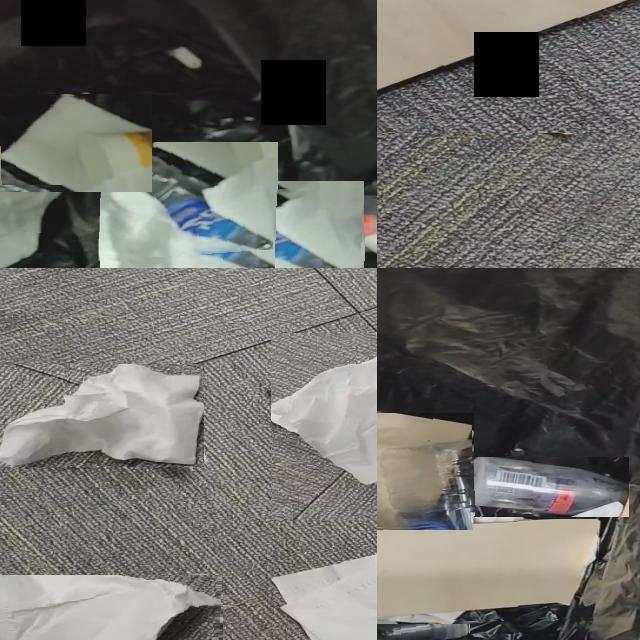bottle: (29, 142, 274, 253), (465, 458, 629, 516), (258, 197, 377, 261)
carton: (377, 519, 598, 619), (377, 413, 473, 529)
dixie_cup: (0, 130, 75, 185)
paper: (5, 185, 308, 268), (0, 365, 204, 466), (0, 119, 102, 268), (0, 575, 222, 640), (3, 96, 152, 192), (272, 358, 377, 484), (273, 556, 377, 640), (377, 612, 463, 633), (471, 502, 526, 524), (478, 502, 506, 520)
